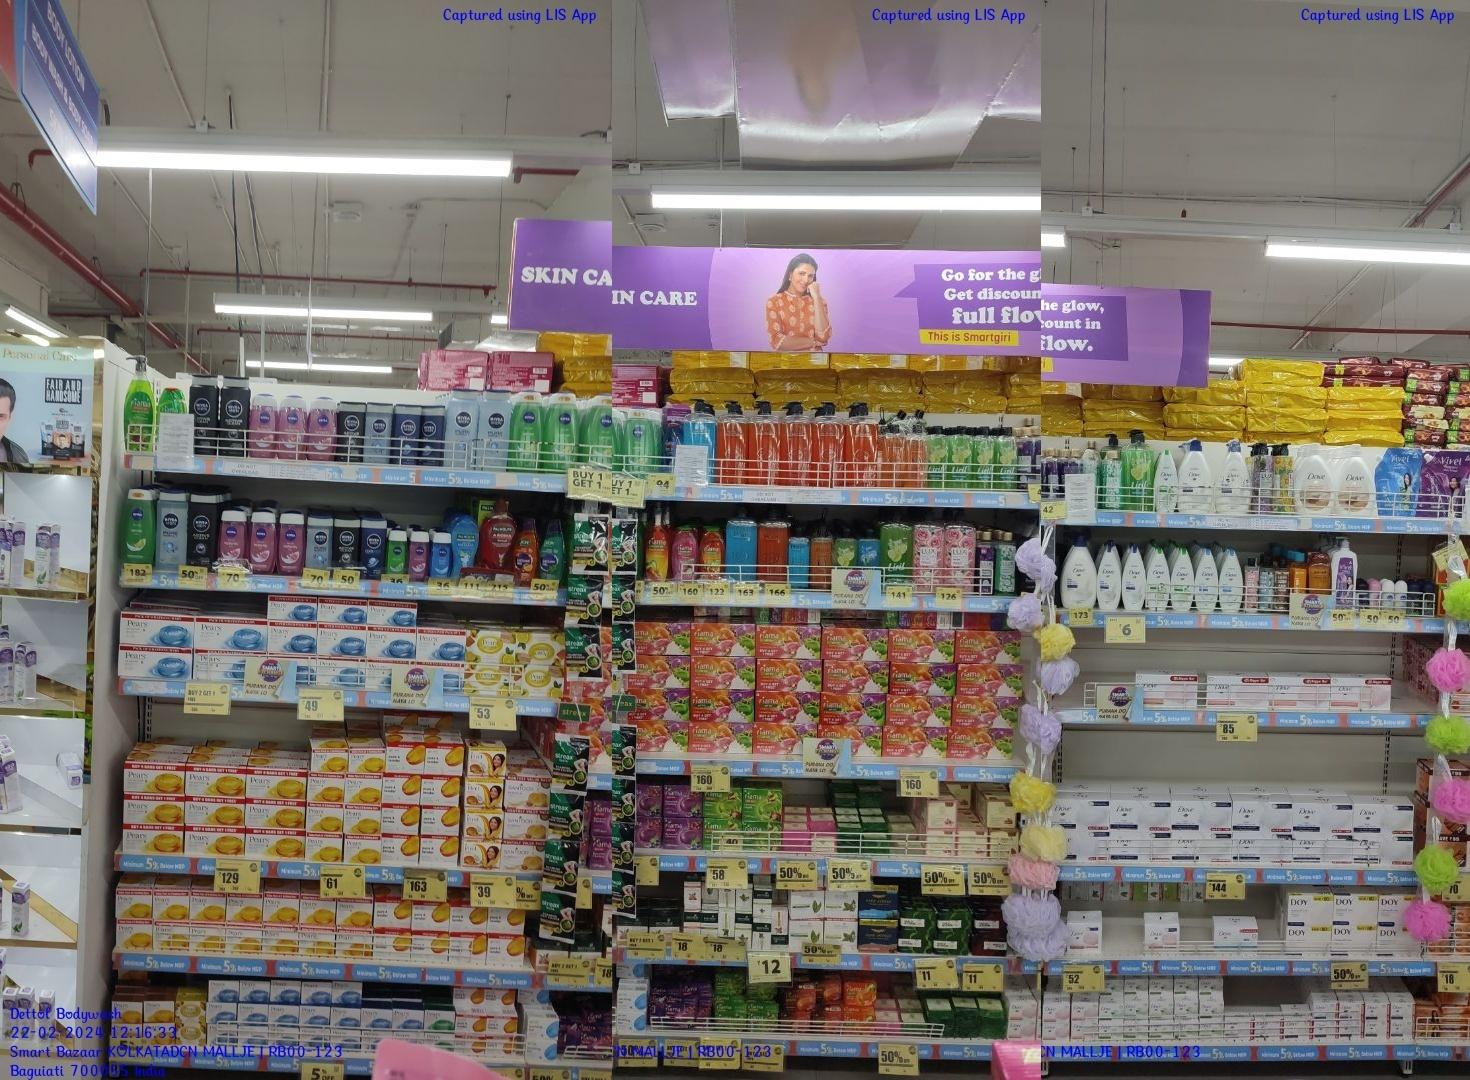Dove_Deep_Moisture_Body_Wash_250ML: (1097, 545, 1121, 612), (1123, 548, 1144, 612)
Dove_Gentle_Exfoliating_Body_Wash_250ML: (1218, 548, 1242, 612), (1194, 550, 1218, 611)
Dove_Refreshing_Body_Wash_250ML: (1154, 445, 1177, 514), (1146, 546, 1170, 611), (1172, 548, 1193, 611)
Fiama_Shower_Gel_Patchouli_and_Macadamia_250ML: (671, 526, 696, 578)
Get_Real_Shower_Gel_Moisturising_Glycerin_300ML: (1309, 551, 1332, 595)
Joy_Shower_Gel_Mandarin_and_Lemongrass_250ML: (516, 516, 533, 583)
Joy_Shower_Gel_Mint_and_Eucalyptus_250ML: (540, 516, 563, 580)
Liril_Cooling_Mint_Body_Wash_250ML: (859, 530, 880, 571)
Liril_Lime_and_Tea_Tree_Oil_Body_Wash_250ML: (948, 426, 972, 489), (995, 426, 1017, 491), (974, 425, 993, 490), (929, 424, 947, 487), (833, 529, 855, 573)
Lux_Black_Orchid_Scent_and_Juniper_Oil_Body_Wash_245ML: (978, 527, 994, 595), (1018, 425, 1034, 483), (1045, 448, 1059, 499)
Lux_Body_Wash_Skin_Detox_Freesia_Scent_and_Alove_Vera_245ML: (997, 531, 1015, 596), (1104, 451, 1122, 509)
Nivea_Shower_Gel_Frangipani_and_Oil_250ML: (308, 393, 338, 459), (278, 393, 306, 460), (252, 390, 277, 458)
Nivea_Shower_Gel_Lemon_and_Oil_250ML: (544, 392, 581, 469), (511, 386, 543, 473), (121, 487, 155, 562), (624, 408, 657, 473), (584, 395, 612, 469)
Nivea_Shower_Gel_Waterlily_and_Oil_250ML: (280, 511, 304, 577), (250, 511, 274, 573), (220, 514, 247, 565)
Palmolive_Aroma_Moments_Feel_The_Massage_Shower_Gel_250ML: (452, 516, 477, 567)
Pears_Pure_Glycerin_and_Mint_Extracts_Body_Wash_250ML: (702, 526, 725, 580), (790, 531, 810, 589)
